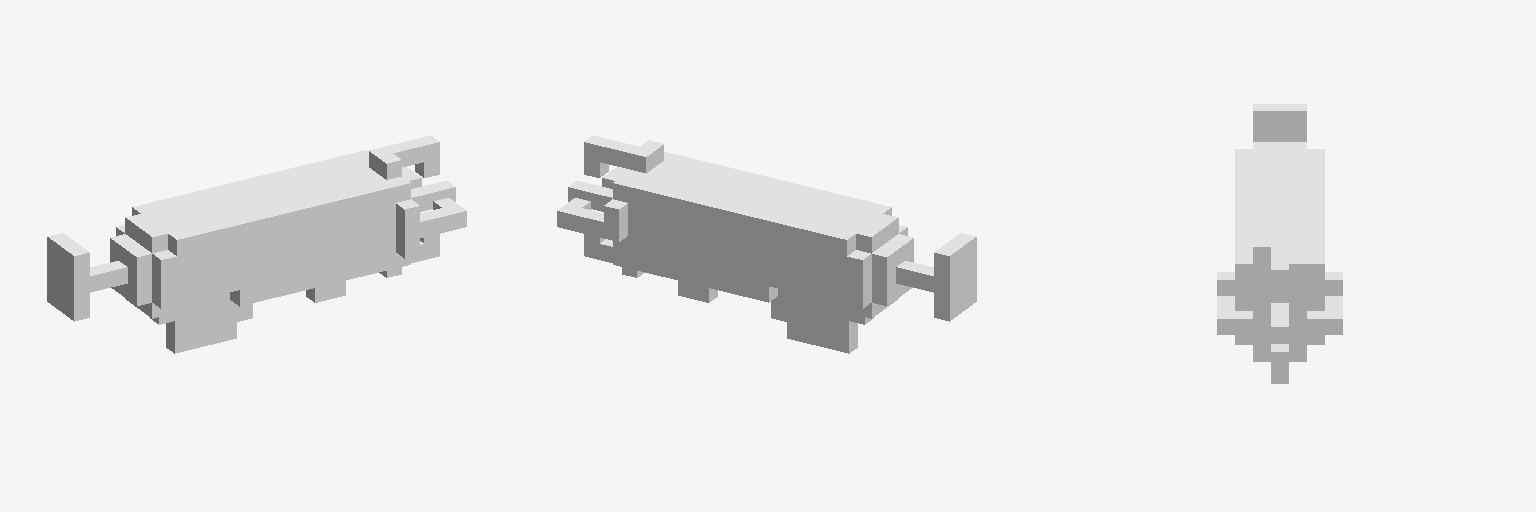
Rendered from CommonFlame.obj.
3 views of the same model, side by side, from view 1: azimuth 30°, elevation 25°; view 2: azimuth 150°, elevation 25°; view 3: azimuth 270°, elevation 25° (orthographic).
Visible parts, largest first — view 1: object 1; view 2: object 1; view 3: object 1.
Part boxes in pixels (bbox=[...]): object 1: bbox=[47, 136, 466, 353]; object 1: bbox=[557, 136, 976, 353]; object 1: bbox=[1217, 104, 1342, 383].
Size of the model in its own units: 2.5 by 0.9 by 0.7.